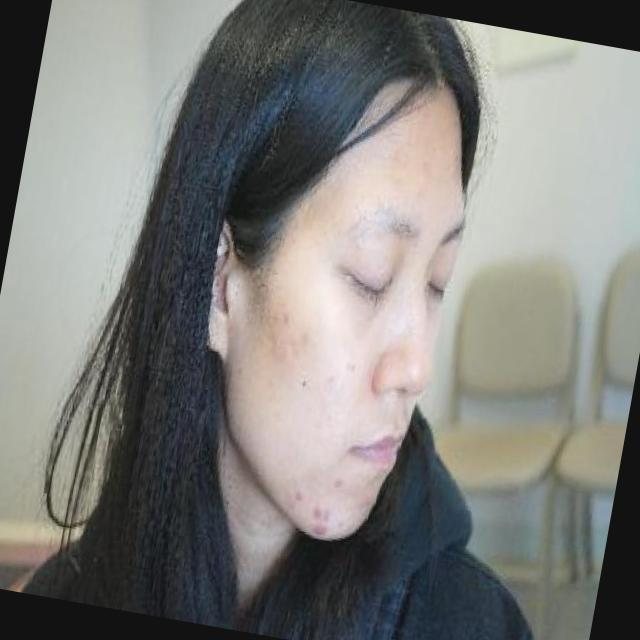darkspot: (319, 503, 334, 521)
nodules: (308, 518, 331, 534), (311, 496, 325, 520), (334, 468, 346, 488), (292, 486, 306, 500), (352, 238, 362, 248), (326, 406, 333, 416), (307, 203, 315, 211)
